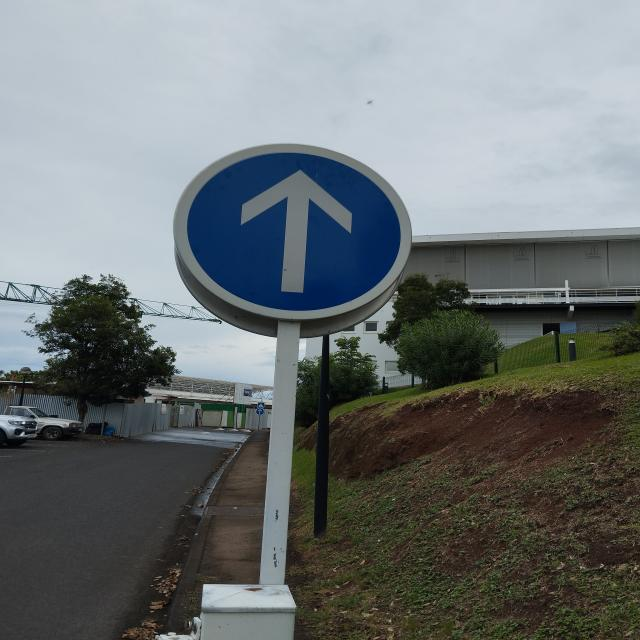Sens-Unique: (175, 140, 412, 320)
